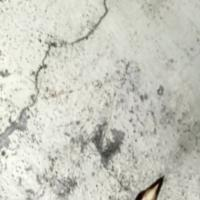crack: (9, 0, 130, 90)
